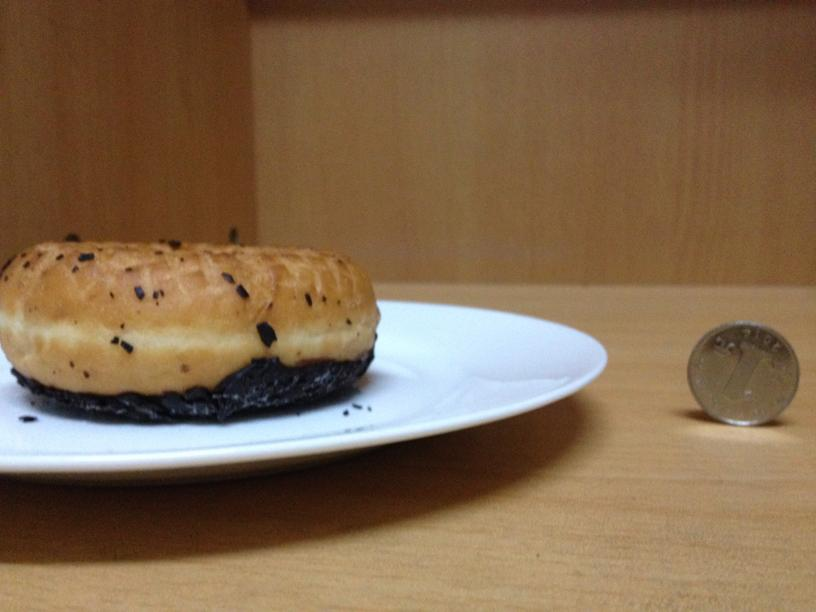coin: (688, 321, 799, 426)
doughnut: (2, 244, 380, 418)
